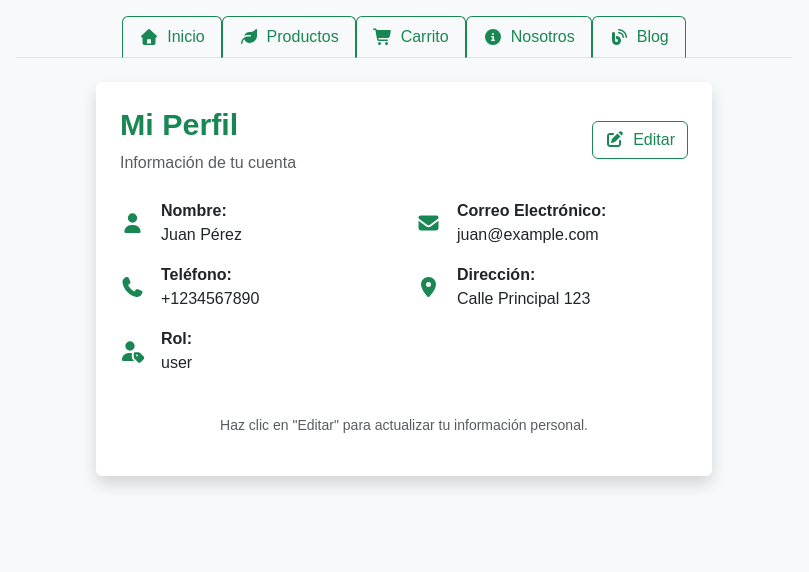
Test: Profile Component › Authenticated user › Edit mode › should toggle to edit mode when edit button is clicked
This screenshot has width=809, height=572.
Click the button "Editar".
click(640, 140)  # box [592,121,688,159]
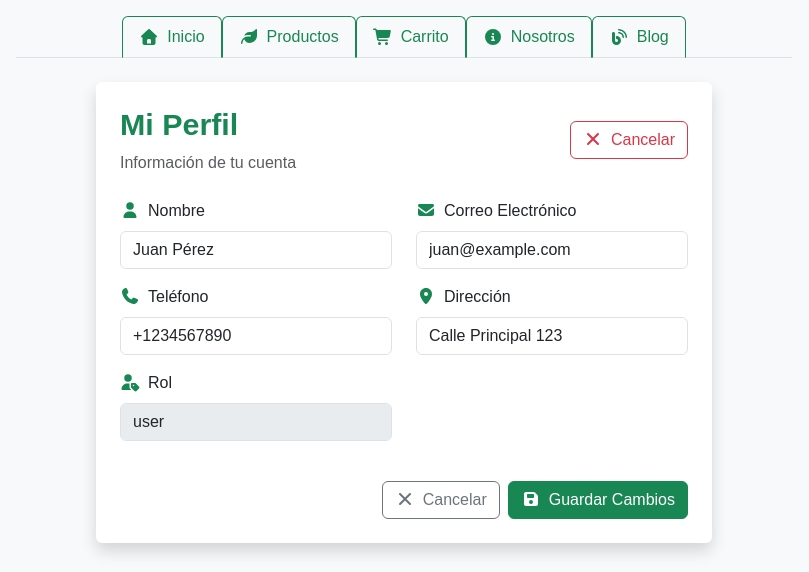
Check: the field showing "Juan Pérez" below "Nombre" is shown, box [120,230,392,268]
Check: the field showing "juan@example.com" below "Correo Electrónico" is shown, box [416,230,688,268]
Check: the field showing "+1234567890" below "Teléfono" is shown, box [120,316,392,354]
